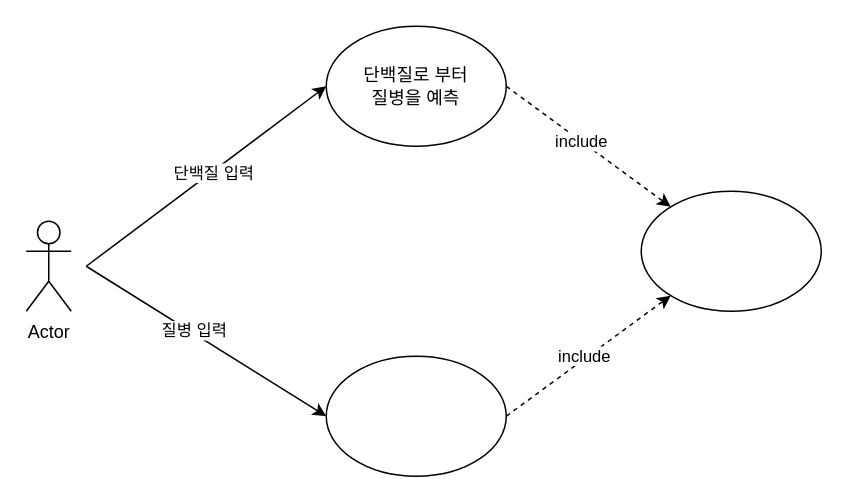
Some shapes in this 848 by 503 pixel diagram are drawn without their labels. The shapes that lost their labels are listed below. From the top down, each one's centre as x and y in pixels, then its label:
At (x=730, y=250): "단백질 구조 및 상호작용 네트워크 시각화".
At (x=415, y=415): "질병으로 부터 단백질 정보 가져옴".
